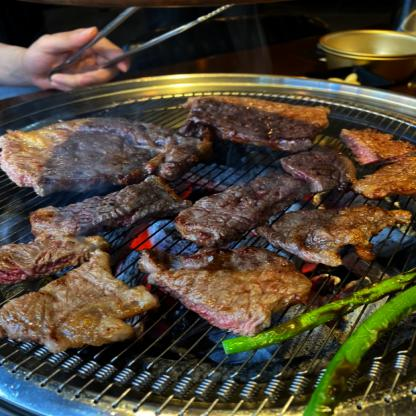Carne: (138, 245, 320, 333), (0, 110, 193, 192), (0, 260, 143, 357), (13, 179, 197, 236), (174, 167, 310, 239), (242, 206, 416, 262), (197, 92, 335, 152), (0, 233, 115, 277), (284, 146, 376, 199), (352, 120, 415, 174), (352, 153, 415, 199)
